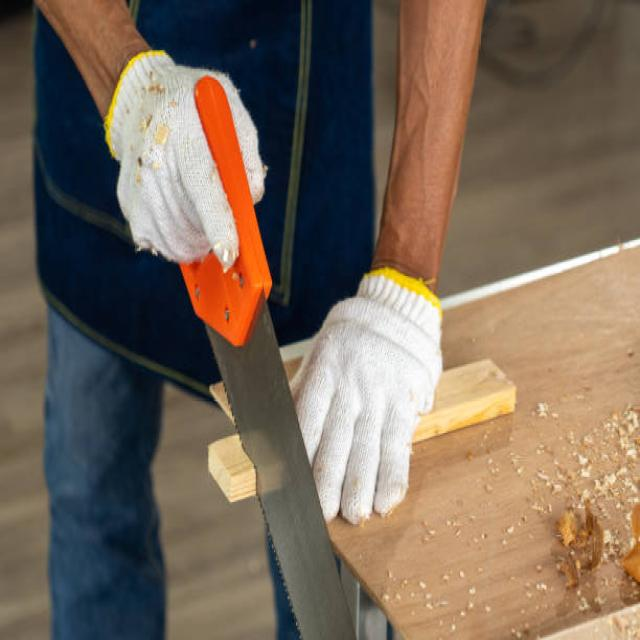gloves: (291, 267, 443, 522), (106, 49, 266, 271)
